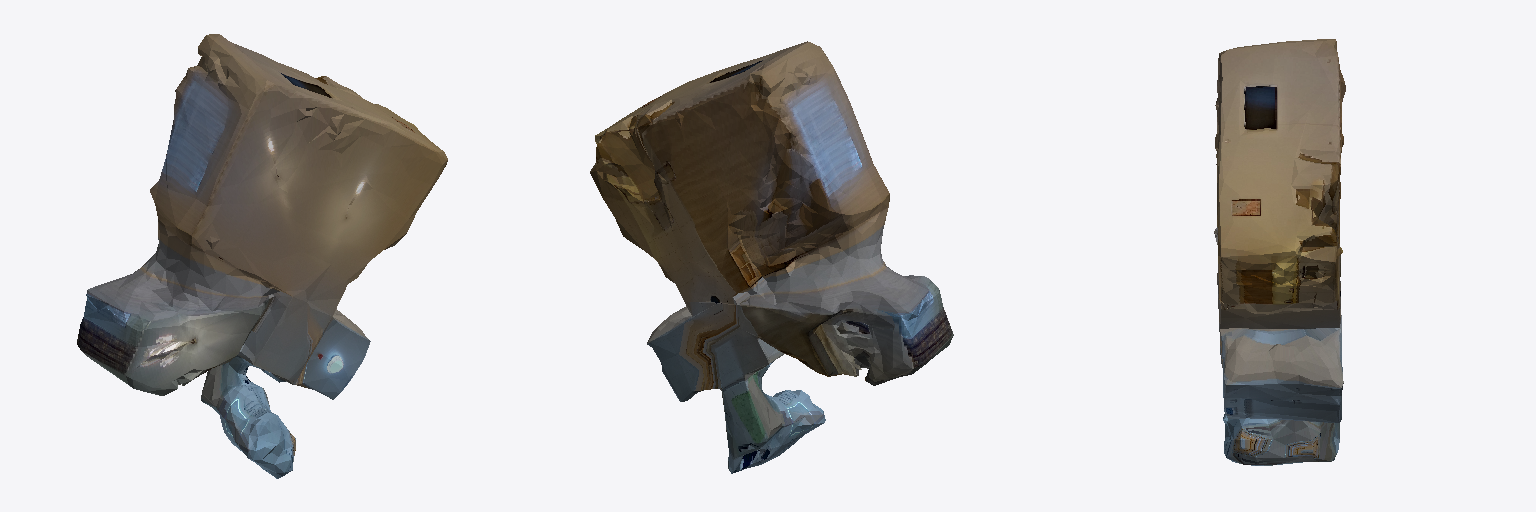
3 views of the same model, side by side, from view 1: azimuth 30°, elevation 25°; view 2: azimuth 150°, elevation 25°; view 3: azimuth 270°, elevation 25° (orthographic).
Size of the model in its own units: 9.72 by 11.59 by 3.35.
Materials: 1 (1 with a texture image).